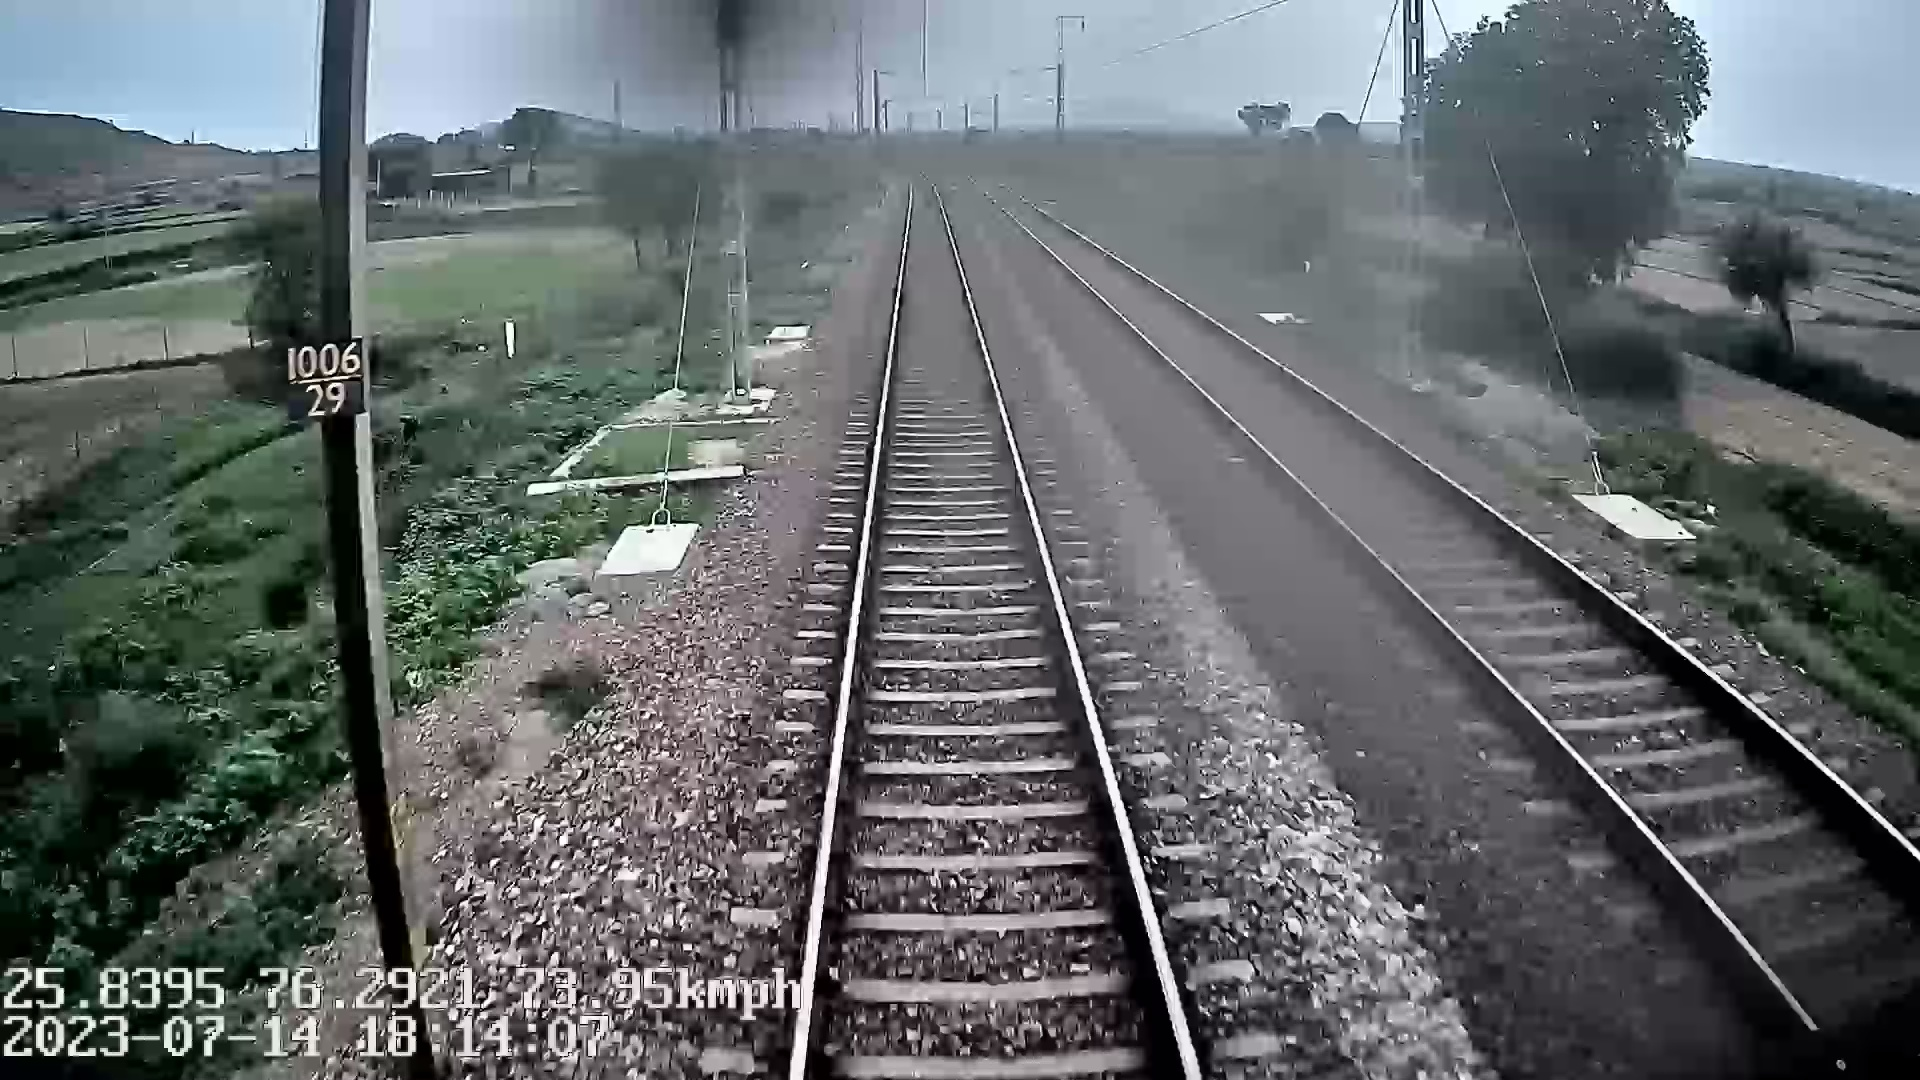track1: (799, 183, 1193, 1068)
track2: (1001, 194, 1919, 1022)
